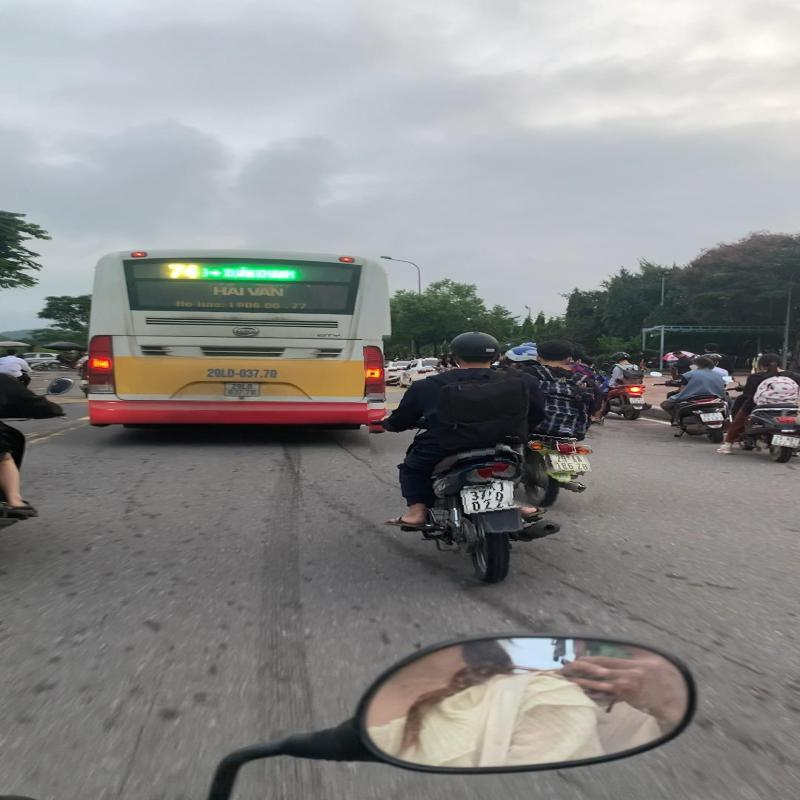helmet: (446, 330, 503, 368), (503, 346, 541, 363)
licenseplate: (458, 482, 529, 515), (544, 450, 596, 476)
motorcyclist: (366, 327, 562, 591), (493, 336, 608, 514)
nohelmet: (536, 340, 574, 365)
